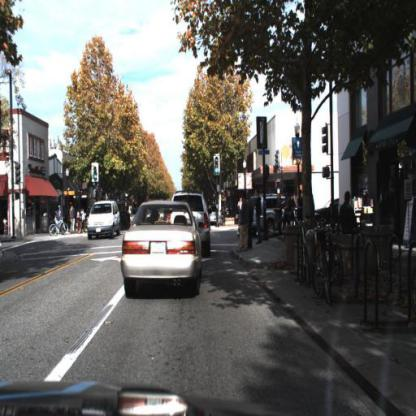car: (122, 199, 206, 300), (172, 192, 221, 265), (240, 193, 302, 237), (85, 200, 123, 243)
pedestrian: (237, 197, 252, 253), (336, 191, 358, 225), (252, 190, 266, 243), (49, 205, 71, 238), (273, 192, 286, 244), (246, 188, 254, 256), (274, 193, 285, 233), (295, 187, 306, 224), (284, 190, 293, 226), (55, 204, 65, 231), (69, 206, 77, 236)
trafficLight-Green: (214, 154, 222, 179), (92, 162, 99, 185)
